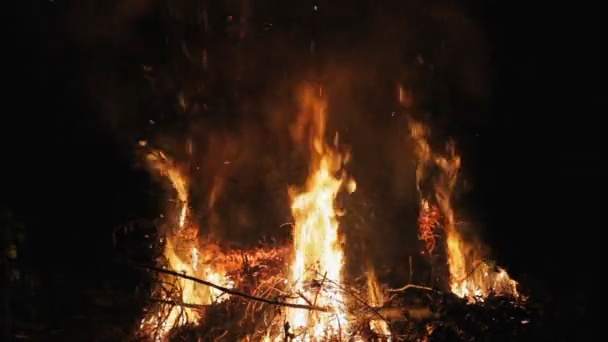fire: (287, 93, 341, 341), (154, 237, 233, 322), (411, 123, 459, 237), (448, 260, 515, 300), (149, 149, 192, 207), (364, 266, 388, 335)
